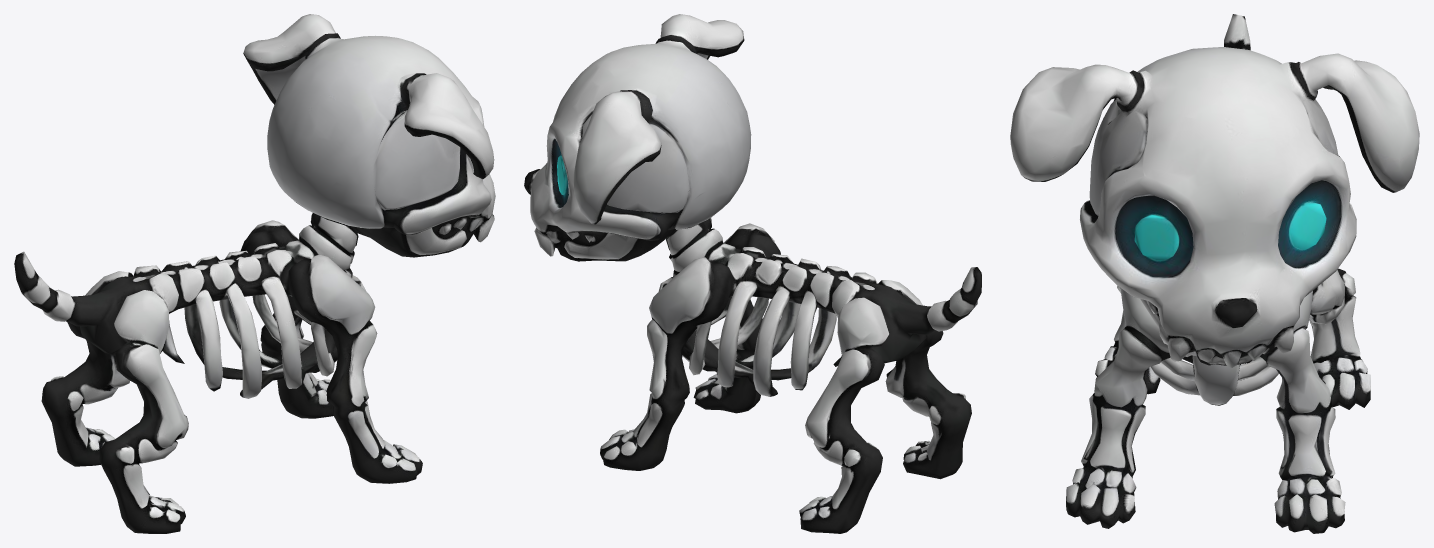
The picture shows the model from 3 angles, left to right: view 1: azimuth 30°, elevation 25°; view 2: azimuth 150°, elevation 25°; view 3: azimuth 270°, elevation 25°; orthographic projection. The views are drawn at different scales.
Parts seen in each view (by area): view 1: tripo_node_60a6901a-1924-458c-8043-af67209326e6; view 2: tripo_node_60a6901a-1924-458c-8043-af67209326e6; view 3: tripo_node_60a6901a-1924-458c-8043-af67209326e6.
Part boxes in pixels (x1,y1,x2,y2): tripo_node_60a6901a-1924-458c-8043-af67209326e6: (14, 14, 495, 533); tripo_node_60a6901a-1924-458c-8043-af67209326e6: (524, 14, 981, 533); tripo_node_60a6901a-1924-458c-8043-af67209326e6: (1010, 14, 1419, 533).
Size of the model in its own units: 1 by 0.7982 by 0.6203.
Materials: 1 (1 with a texture image).
